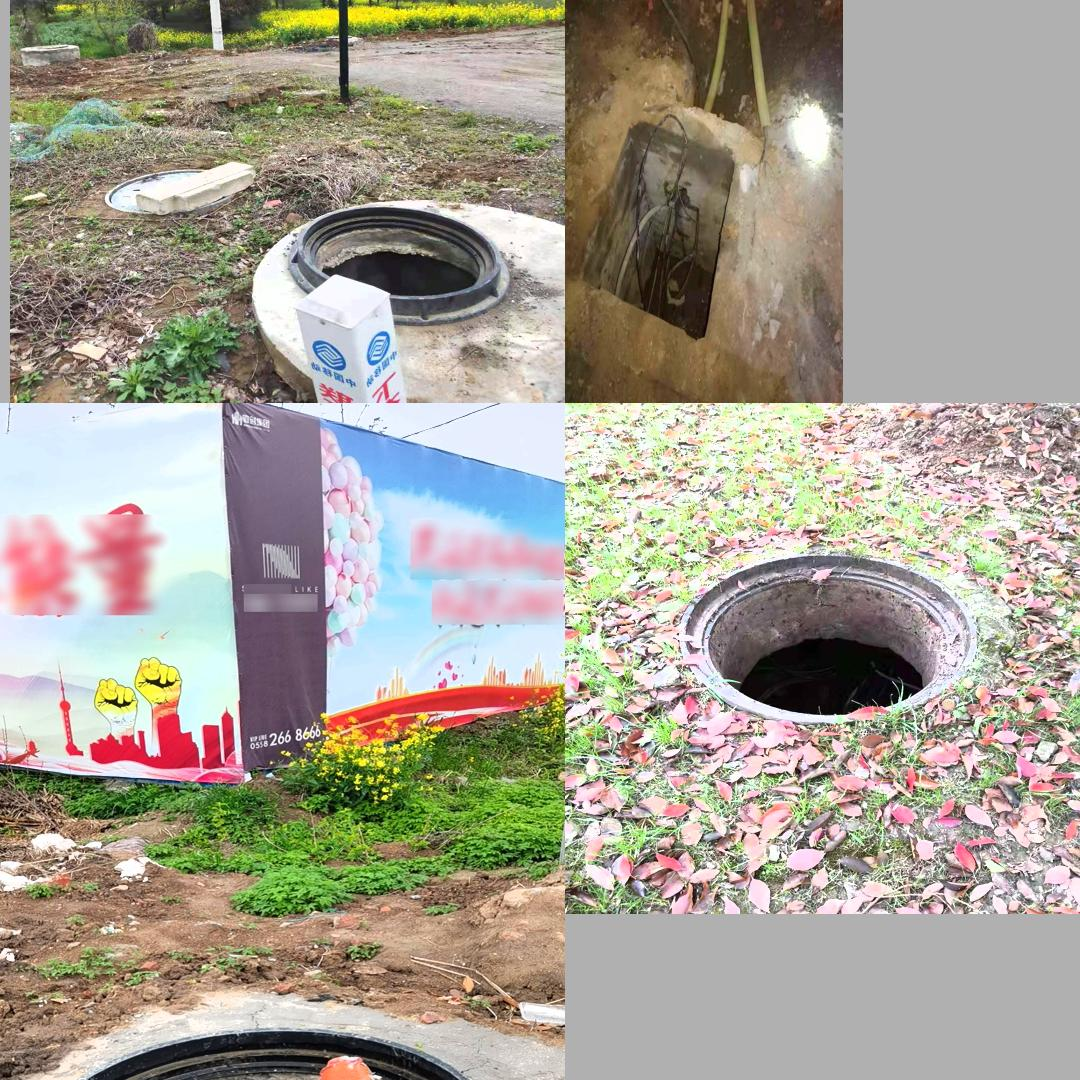lose: (678, 553, 977, 724), (573, 94, 753, 373), (13, 1026, 523, 1080), (286, 202, 515, 321)
